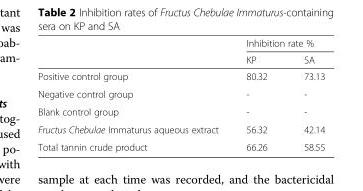table: (37, 37, 324, 152)
table column: (37, 37, 231, 152), (231, 37, 284, 152), (284, 37, 324, 152)
table column header: (37, 37, 324, 67)
table row: (37, 84, 324, 102), (37, 102, 324, 120), (37, 50, 324, 67), (37, 67, 324, 84), (37, 120, 324, 137), (37, 137, 324, 152), (37, 37, 324, 50)
table spanning cell: (231, 37, 324, 50)
